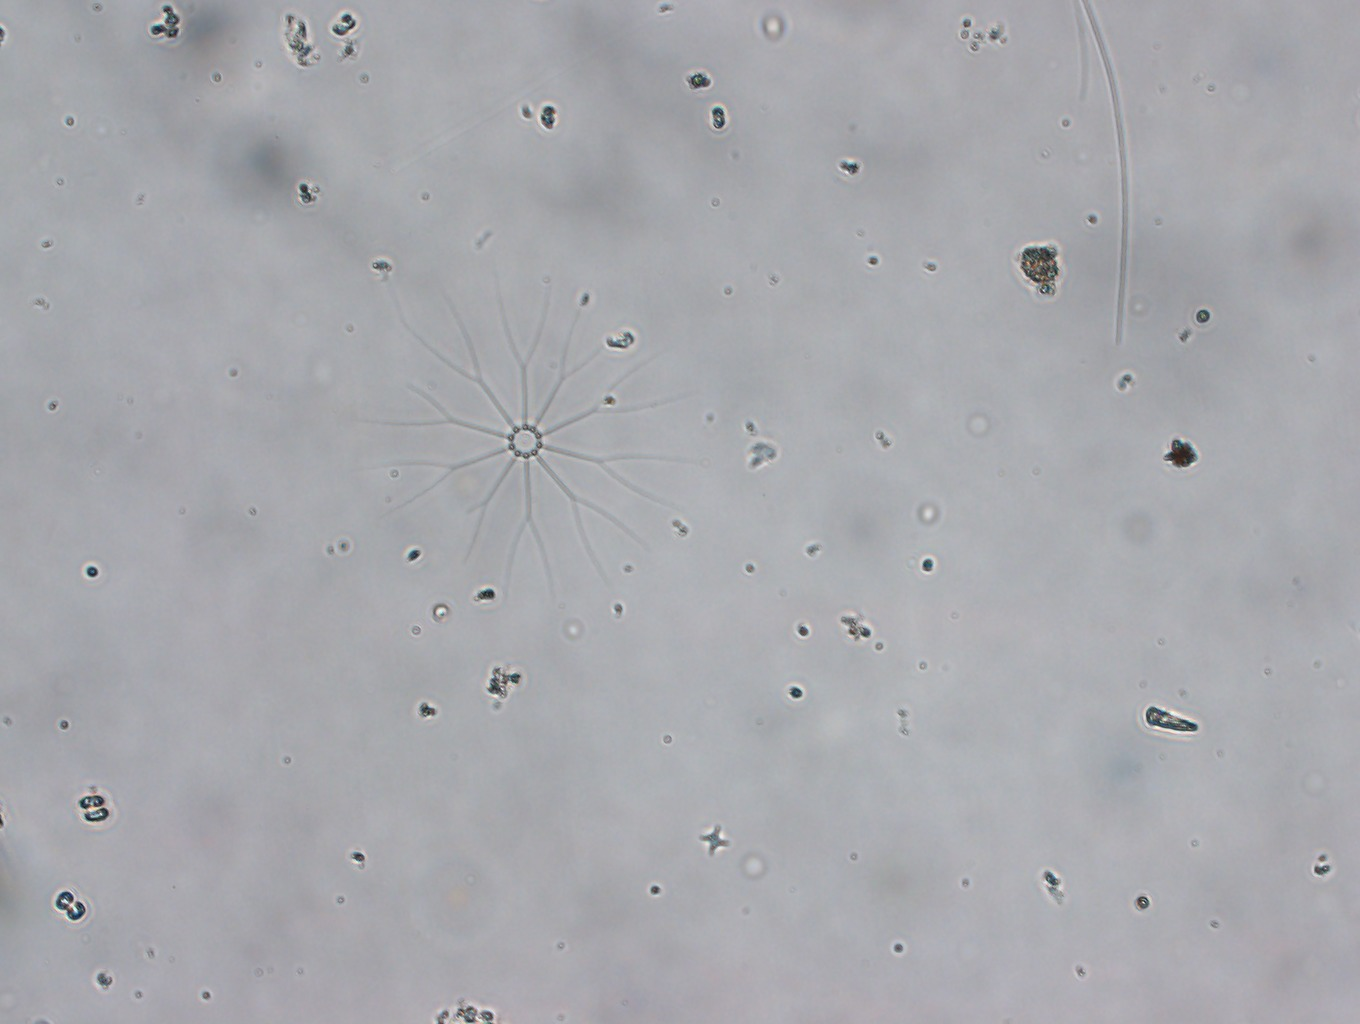bacteriastrum: (374, 269, 690, 605)
